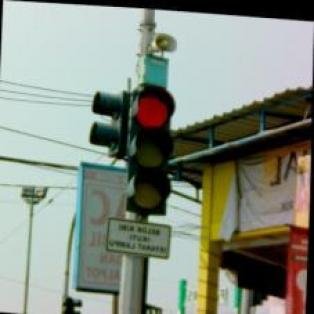Semoforo Rojo: (125, 87, 176, 212)
